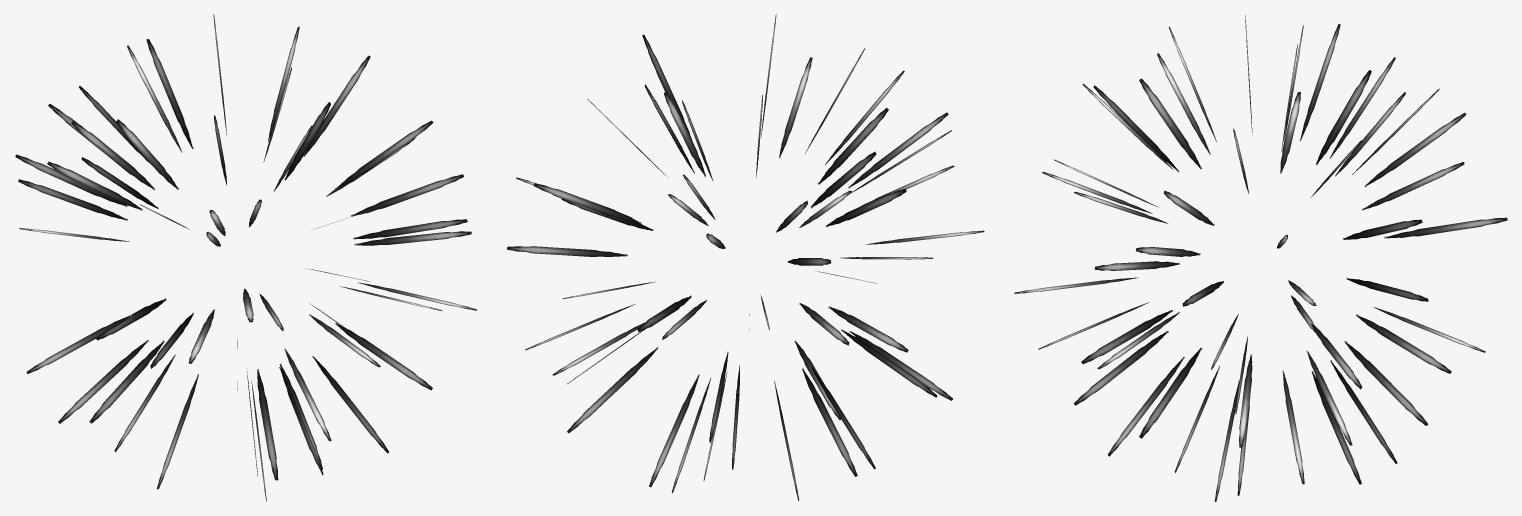
The picture shows the model from 3 angles, left to right: view 1: azimuth 30°, elevation 25°; view 2: azimuth 150°, elevation 25°; view 3: azimuth 270°, elevation 25°; orthographic projection.
Parts seen in each view (by area): view 1: T1L6M004_17; view 2: T1L6M004_17; view 3: T1L6M004_17.
Boxes of the visible parts, x1,y1,x2,y2 form: T1L6M004_17: (15,14,476,501); T1L6M004_17: (507,14,984,500); T1L6M004_17: (1014,15,1507,501).
Bounding box in the file's own units: 3.85 × 3.83 × 3.94.
